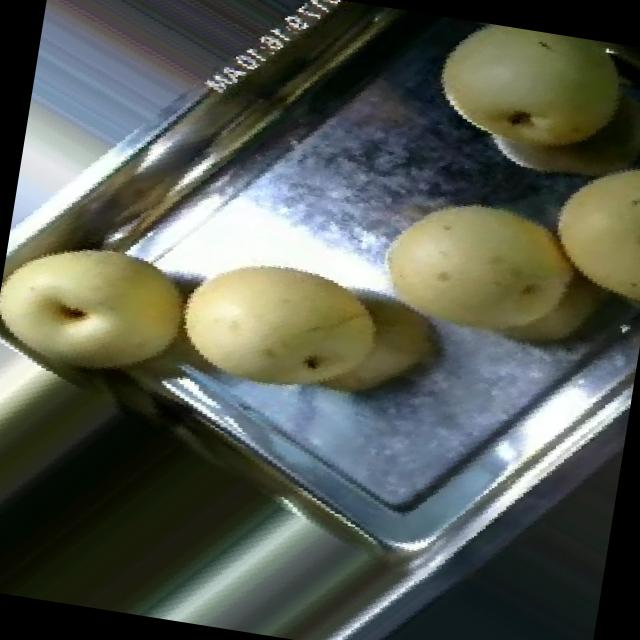Fruit: (347, 159, 640, 394), (153, 227, 446, 449), (0, 195, 226, 428), (416, 15, 640, 191)
